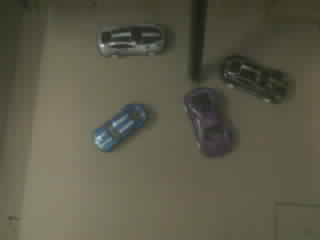Car: (222, 56, 287, 102), (186, 88, 230, 155), (96, 105, 146, 151), (99, 25, 164, 55)
